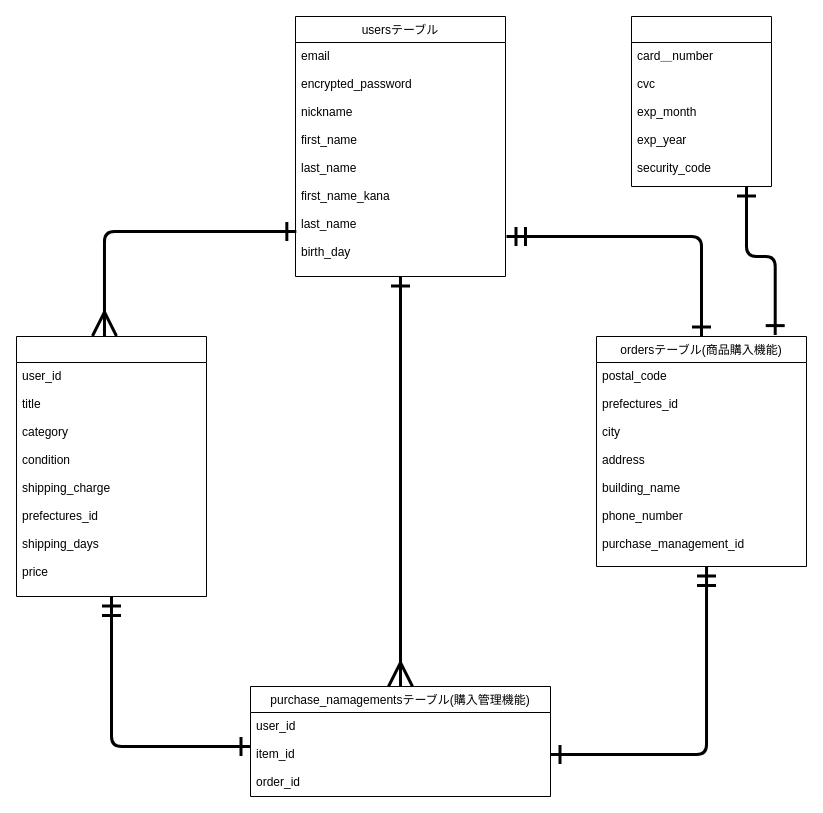
The diagram is 823 pixels wide and 813 high, and some of its shapes have lost their labels. The box of each missing label's shape, as (x1, y1, x2, y2) in pixels:
cards(token化): (630, 16, 772, 186)
itemsテーブ(商品出品機能): (16, 336, 206, 596)
